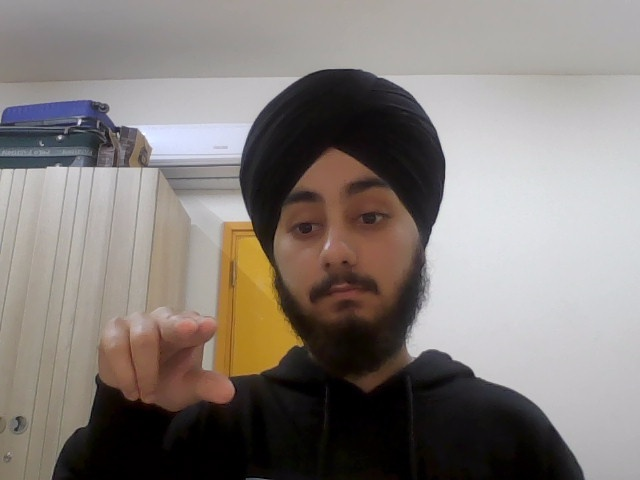No: (96, 293, 239, 412)
